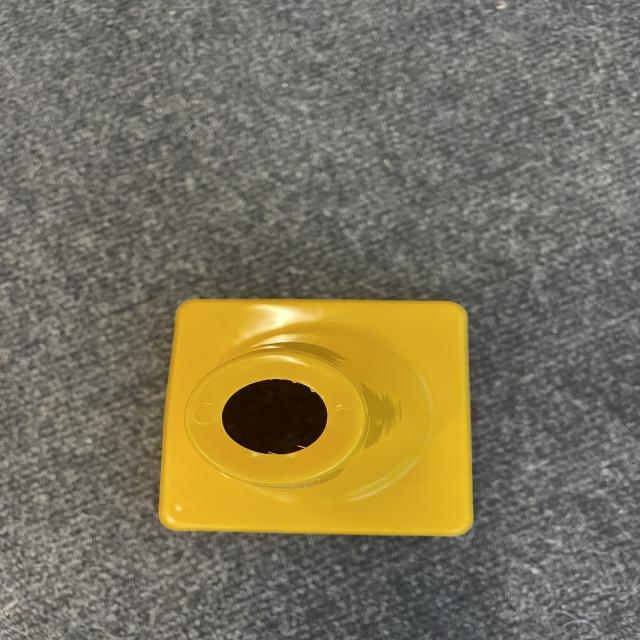frc_cone: (139, 267, 486, 547)
